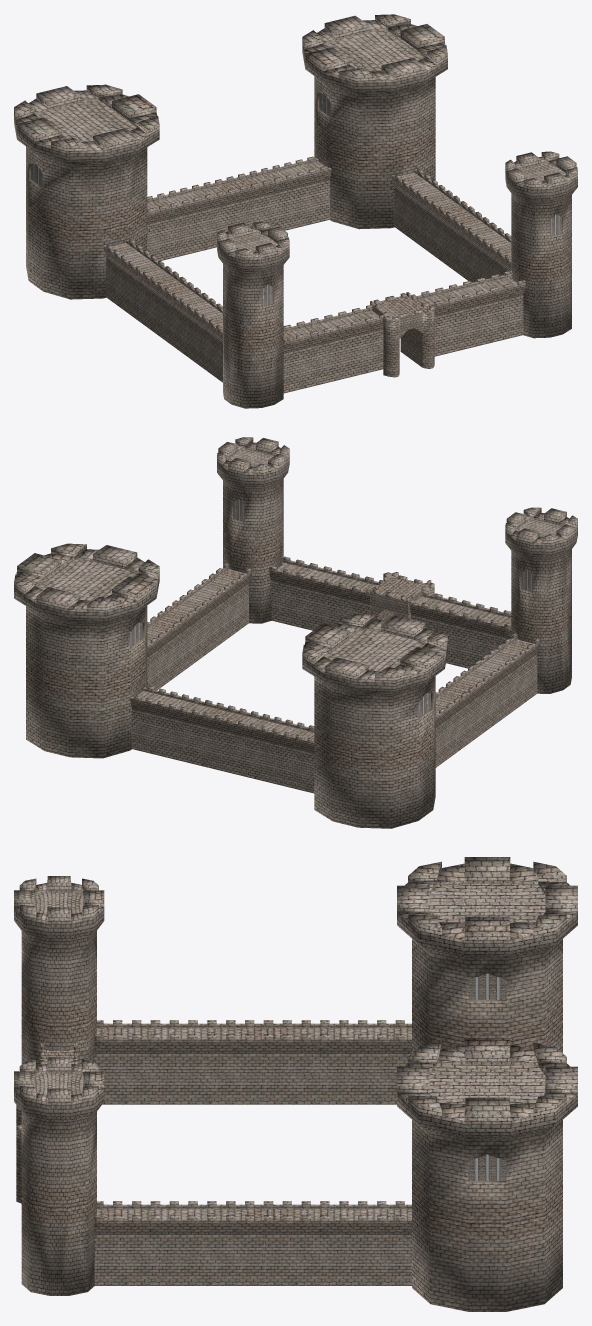
The model's file is castle.glb.
The picture shows the model from 3 angles, top to bottom: view 1: azimuth 30°, elevation 25°; view 2: azimuth 150°, elevation 25°; view 3: azimuth 270°, elevation 25°; orthographic projection. The views are drawn at different scales.
Bounding box in the file's own units: 85.34 × 31.5 × 79.01.
1 material, 1 textured.
